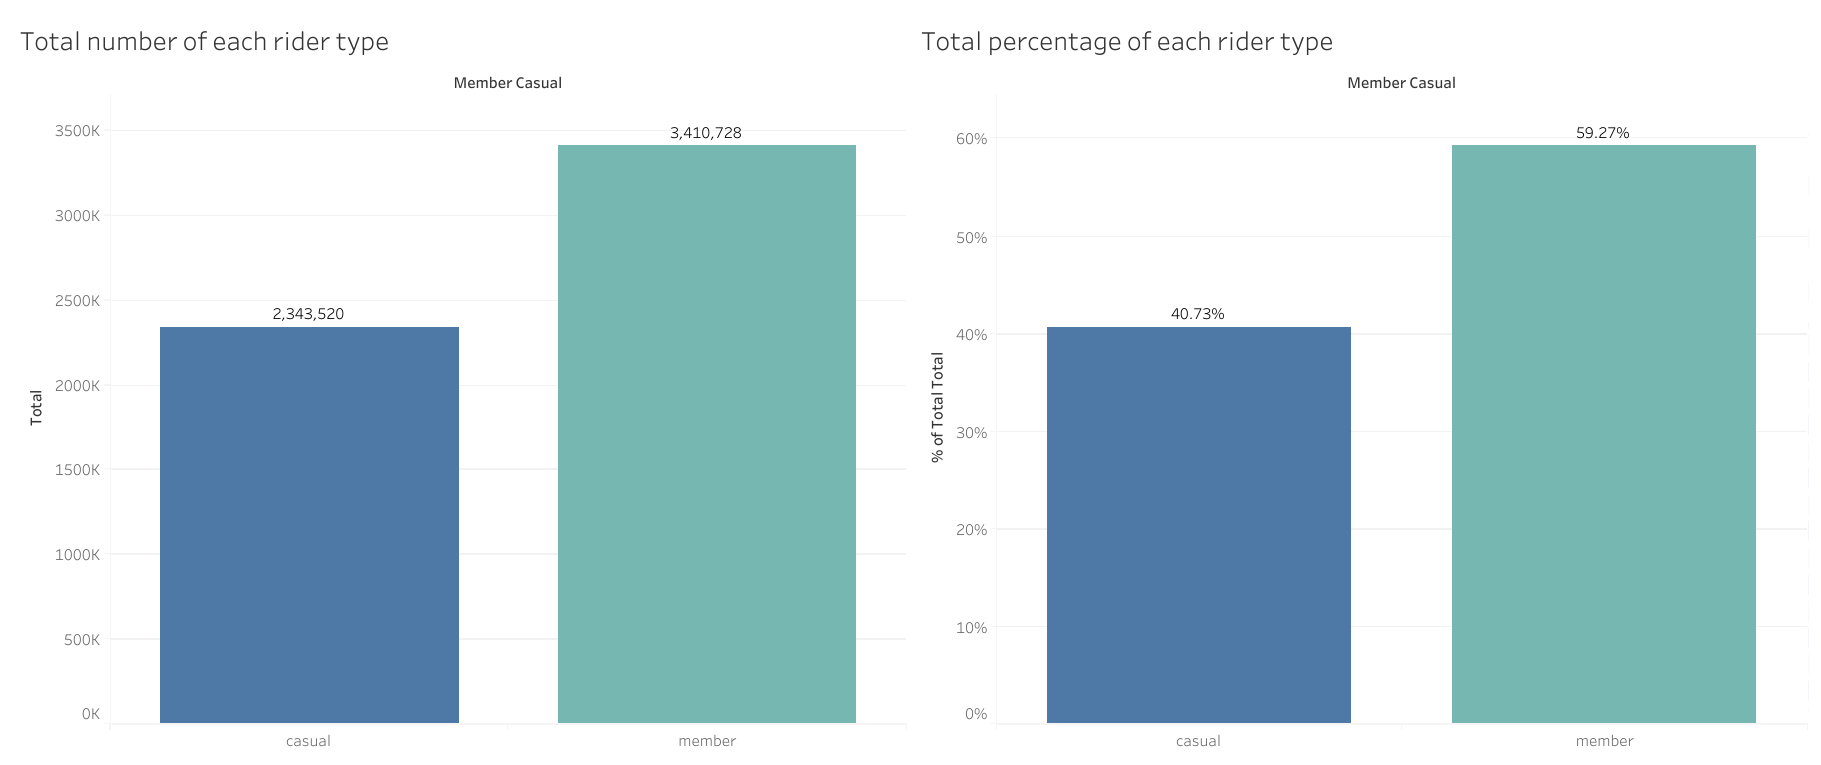

The page's visual inventory and layout, read from the dashboard file:
{"tool":"tableau","page":{"name":"Dashboard 1","canvas":[1000,1000],"units":"permille","ordinal":0},"visuals":[{"type":"worksheet","title":"Sheet 1","mark":"Automatic","rows":["total"],"cols":["member_casual"],"box":[4.8,9.3,495.2,981.4]},{"type":"worksheet","title":"Sheet 2","mark":"Automatic","rows":["total"],"cols":["member_casual"],"box":[500,9.3,495.2,981.4]}]}

Visuals, with their boxes on the dashboard's canvas, which has no fixed pixel size, in thousandths of its width and height (x1, y1, x2, y2). These are canvas units, not pixel positions in the 1821x765 screenshot, which may show the page scaled, cropped or inside an application window:
"Sheet 1" worksheet: 5 9 500 991
"Sheet 2" worksheet: 500 9 995 991
